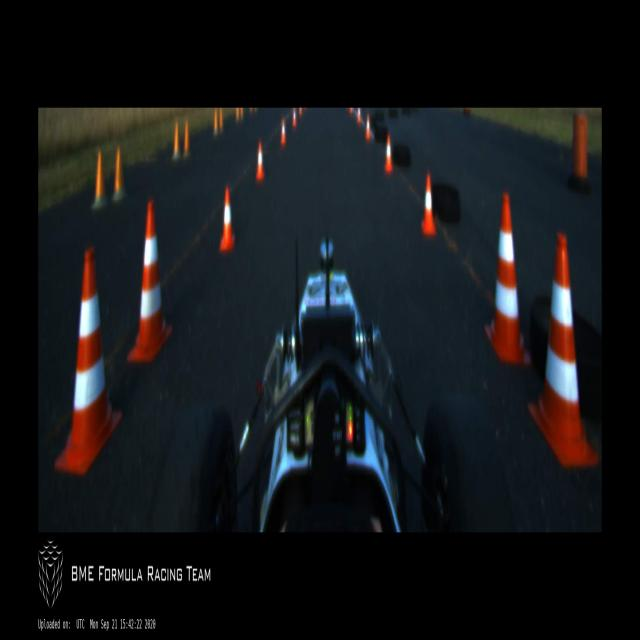large_orange_cone: (529, 235, 598, 470), (55, 248, 120, 477), (484, 192, 530, 365), (126, 203, 171, 363)
orange_cone: (219, 187, 235, 253), (421, 175, 436, 237), (256, 142, 264, 182), (385, 136, 393, 172), (280, 117, 286, 146), (365, 114, 370, 141), (292, 108, 297, 126), (357, 108, 361, 123)
unknown_cone: (91, 150, 109, 208), (112, 148, 128, 202), (182, 121, 191, 157), (173, 122, 181, 160), (214, 108, 218, 134), (219, 108, 223, 132)
